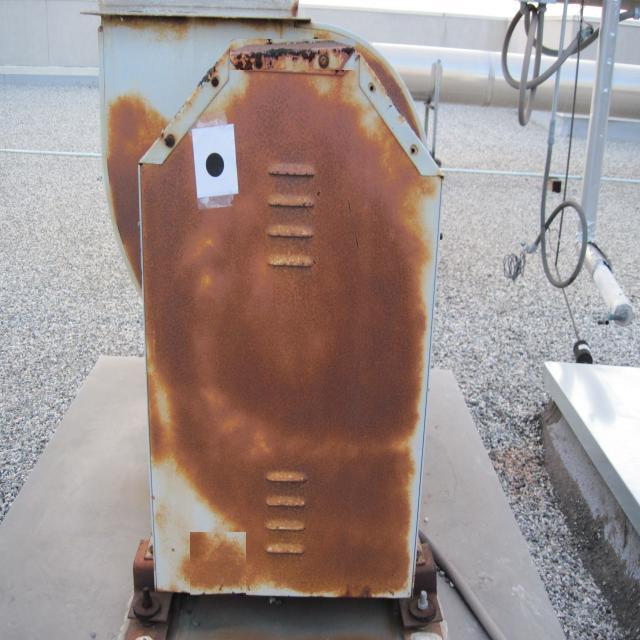Corrosion: (209, 72, 426, 596), (141, 161, 234, 502), (104, 95, 167, 278), (182, 533, 246, 594), (205, 75, 264, 130)
